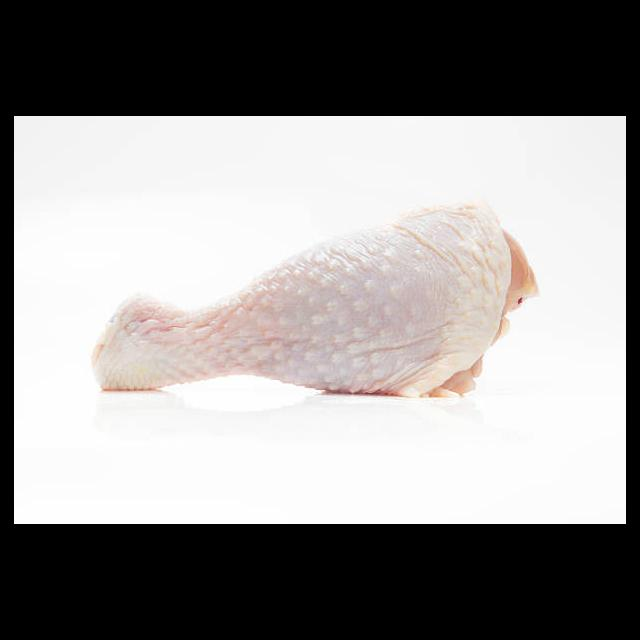chicken: (91, 192, 539, 401)
